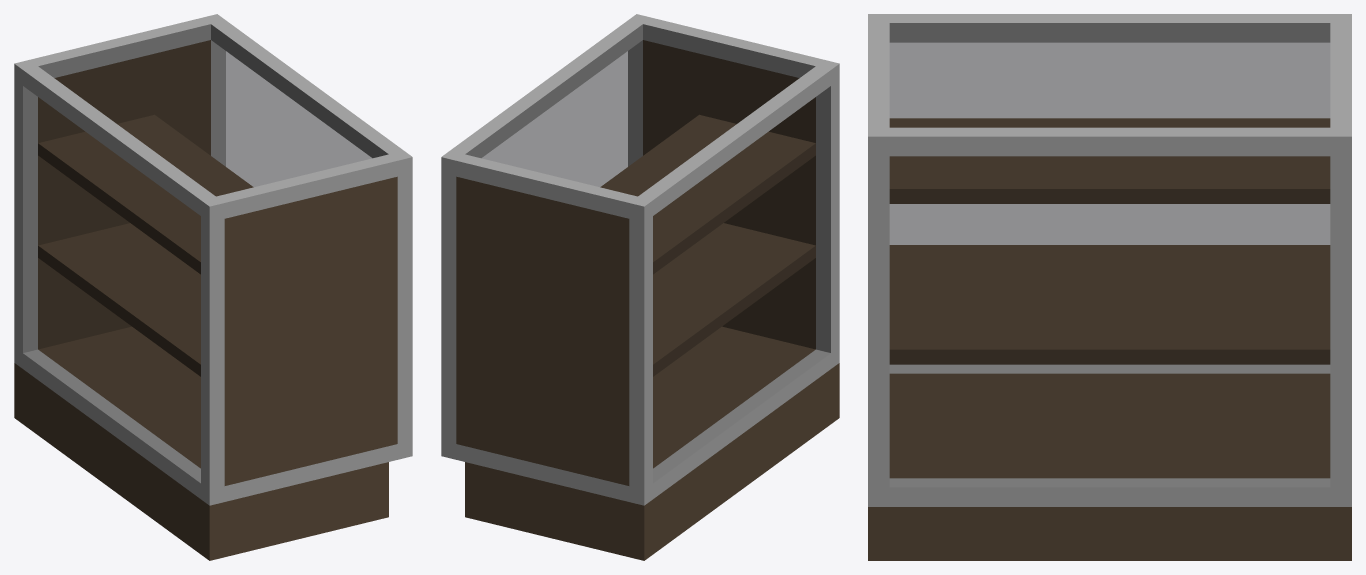
File: SM_gunShopCounter_01.glb
3 renders of one model, left to right at view 1: azimuth 30°, elevation 25°; view 2: azimuth 150°, elevation 25°; view 3: azimuth 270°, elevation 25°, orthographic. The views are drawn at different scales.
Visible parts, largest first — view 1: SM_gunShopCounter_01; view 2: SM_gunShopCounter_01; view 3: SM_gunShopCounter_01.
Part boxes in pixels (bbox=[...]): SM_gunShopCounter_01: bbox=[14, 14, 412, 560]; SM_gunShopCounter_01: bbox=[441, 14, 839, 560]; SM_gunShopCounter_01: bbox=[868, 14, 1351, 560].
Bounding box in the file's own units: 0.6 × 1 × 1.
Materials: 2 (1 with a texture image).
